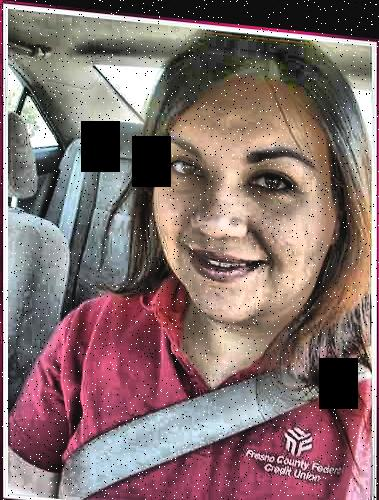seatbelt: (42, 309, 339, 492)
